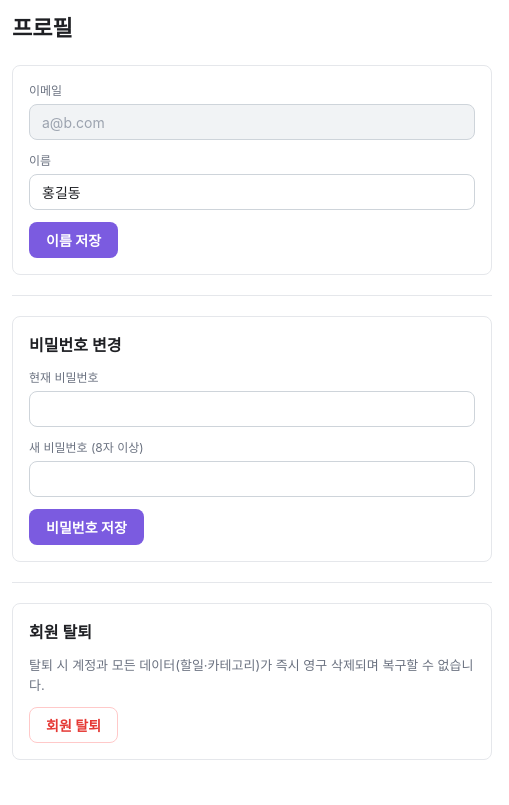
Test case: ProfilePage › 비밀번호 변경 정상 흐름
The image size is (509, 805).
Expected: the field labelled "이름" is shown, [29,174,475,210]
Type "CurrPw1234" into the password field labelled "현재 비밀번호" at (252, 409), box [29,391,475,427]
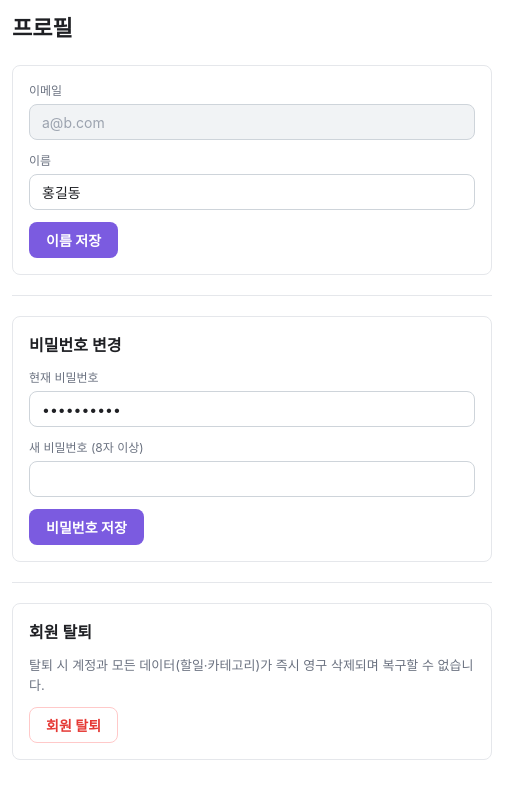
Type "NewPw1234" into the password field labelled "새 비밀번호 (8자 이상)" at (252, 479), box [29,461,475,497]
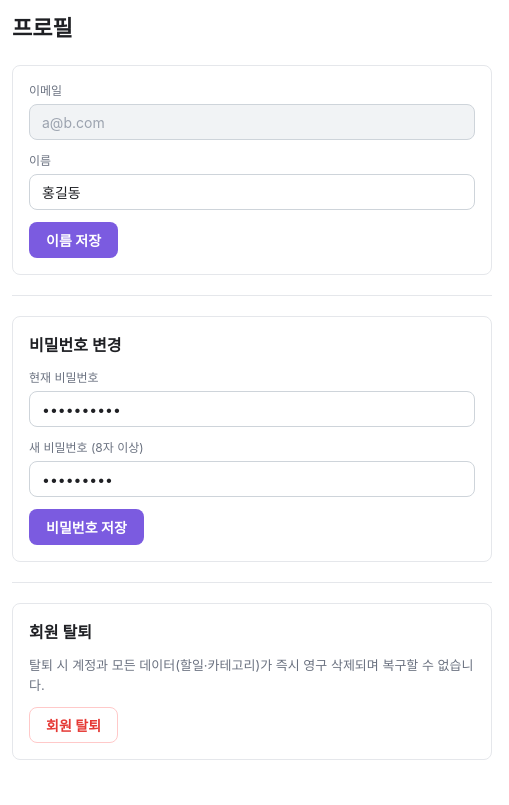
Click the button "비밀번호 저장" at (86, 527), box [29,509,144,545]
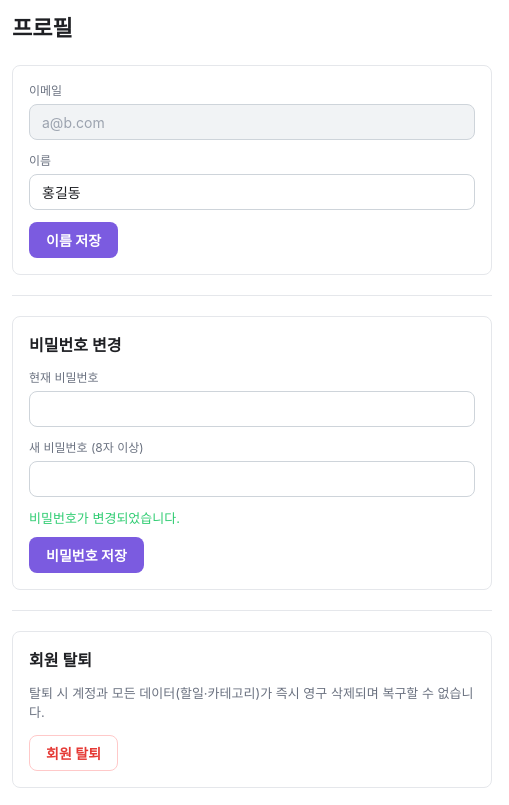
Expected: the text "비밀번호가 변경되었습니다." is shown, [29,510,180,526]
Expected: the password field labelled "현재 비밀번호" is empty, [29,391,475,427]
Expected: the password field labelled "새 비밀번호 (8자 이상)" is empty, [29,461,475,497]
